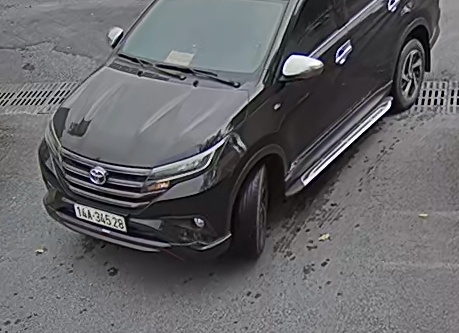vehicle plate: (71, 197, 128, 234)
